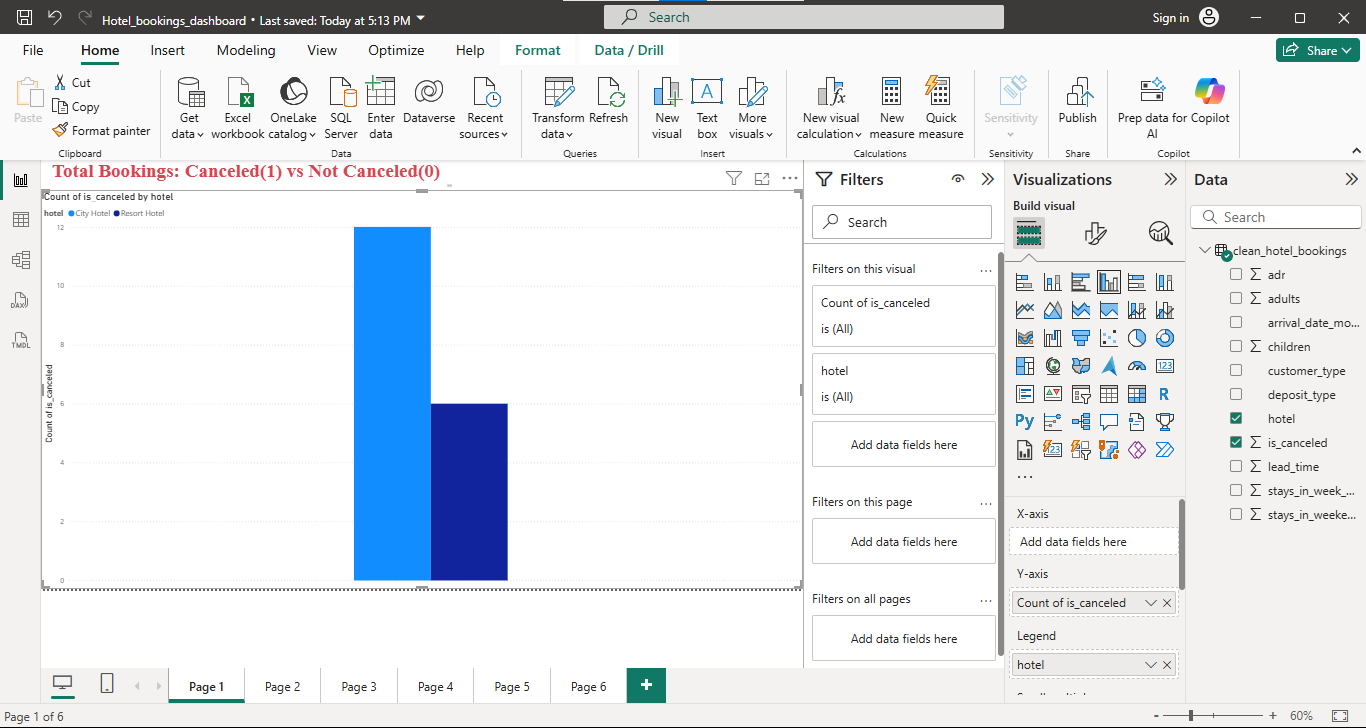

This screenshot's page, from the dashboard's own definition file:
{"tool":"powerbi","page":{"name":"Page 1","canvas":[1280,720],"ordinal":0},"visuals":[{"type":"clusteredColumnChart","fields":{"Series":["clean_hotel_bookings.hotel"],"Y":["CountNonNull(clean_hotel_bookings.is_canceled)"]},"box":[0,50.4,1280,670.2],"z":0},{"type":"textbox","title":"Total Bookings: Canceled(1) vs Not Canceled(0)","box":[13.4,0,682,50.4],"z":1}]}

Visuals, with their boxes on the page's 1280x720 design canvas (x1, y1, x2, y2). These are canvas units, not pixel positions in the 1366x728 screenshot, which may show the page scaled, cropped or inside an application window:
clusteredColumnChart - clean_hotel_bookings.hotel x CountNonNull(clean_hotel_bookings.is_canceled): rect(0, 50, 1280, 721)
"Total Bookings: Canceled(1) vs Not Canceled(0)" textbox: rect(13, 0, 695, 50)
